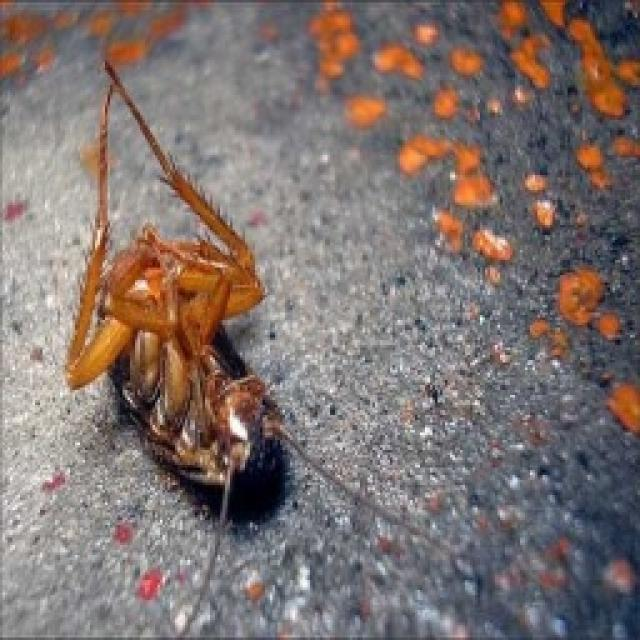cockroach: (61, 56, 297, 526)
